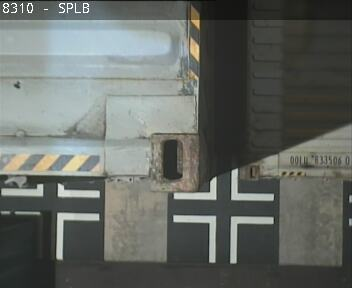groundmarker_1: (173, 213, 273, 262), (1, 211, 100, 260), (173, 158, 273, 200)
